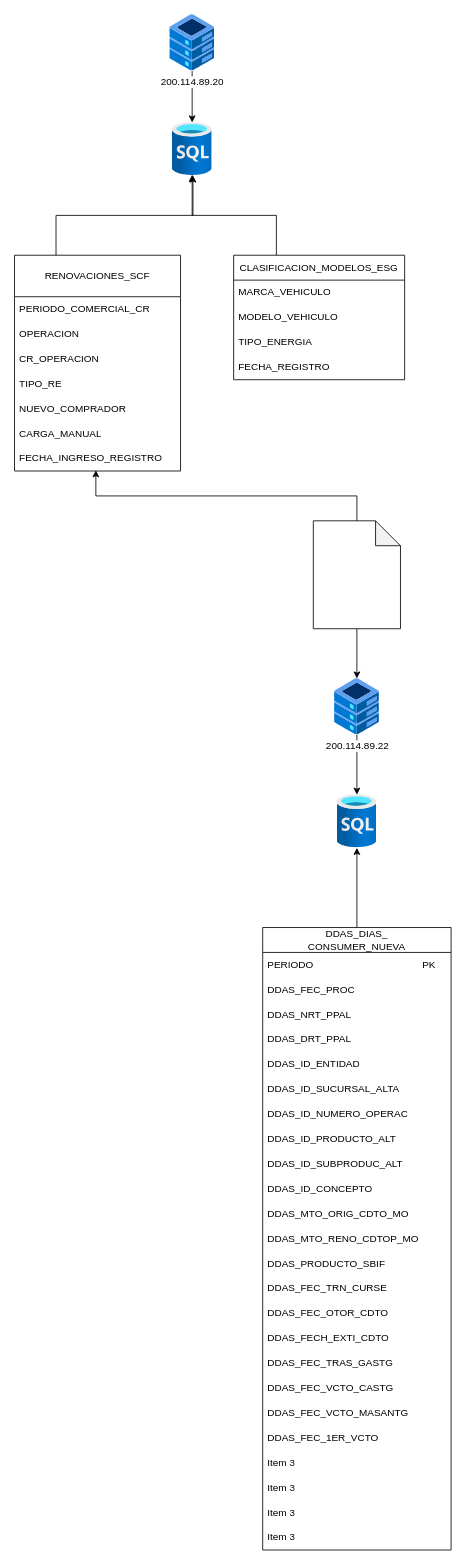
The diagram is 466 pixels wide and 1565 high, and some of its shapes have lost their labels. The shapes that lost their labels are listed below. From the top down, each one's centre as x and y in pixels, then its label:
point (192, 148): MKT
point (356, 574): GS_REGISTRAR _RENOVACIONES
point (356, 820): Consumer
